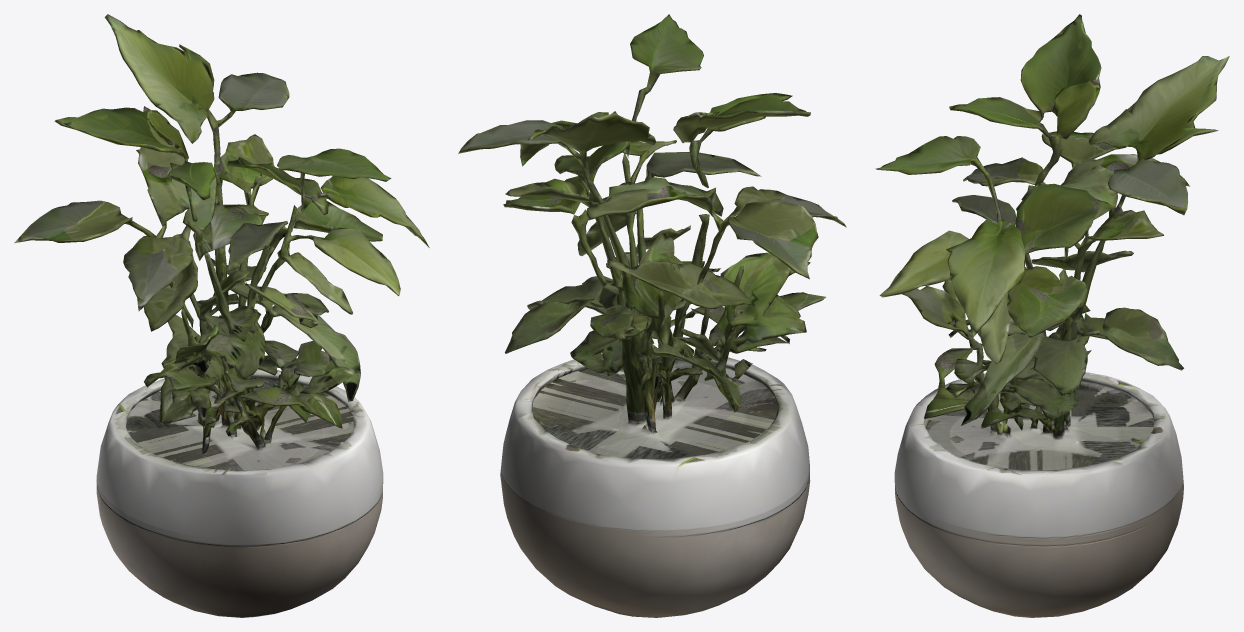
Rendered from A_modern_indoor_plant_1127151849_texture.fbx.
3 renders of one model, left to right at view 1: azimuth 30°, elevation 25°; view 2: azimuth 150°, elevation 25°; view 3: azimuth 270°, elevation 25°, orthographic. The views are drawn at different scales.
Parts seen in each view (by area): view 1: Mesh_0; view 2: Mesh_0; view 3: Mesh_0.
Part boxes in pixels (box(x1,y1,x2,y2)): Mesh_0: box(14, 14, 429, 617); Mesh_0: box(458, 14, 846, 617); Mesh_0: box(875, 14, 1229, 617).
Size of the model in its own units: 139 by 200 by 125.
Materials: 1 (1 with a texture image).
